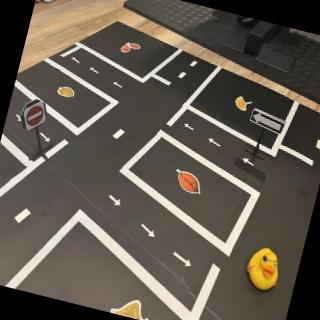duck_specialty: (241, 244, 289, 299)
road_oneway: (171, 249, 197, 272), (137, 221, 160, 241), (106, 193, 124, 209), (206, 136, 224, 149), (38, 132, 53, 146), (241, 155, 257, 168), (183, 122, 197, 134), (13, 113, 25, 125), (89, 66, 101, 77), (112, 81, 125, 91), (71, 56, 82, 65)
sign_noentry: (20, 98, 52, 137)
sign_oneway_left: (249, 110, 289, 137)
